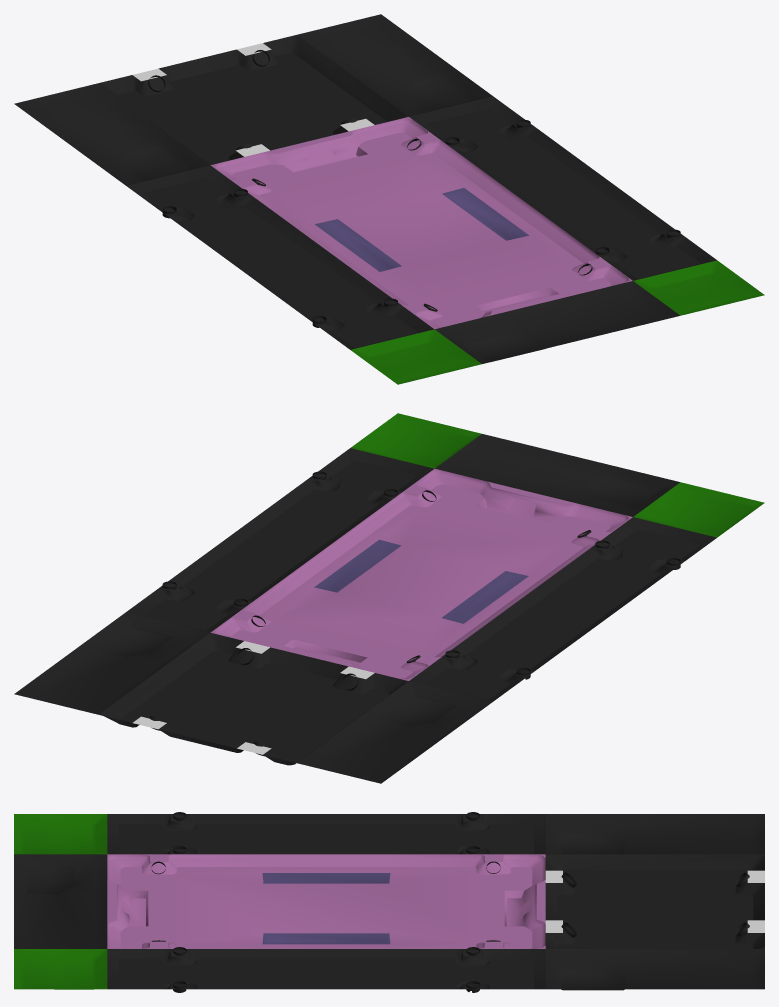
Rendered from Building_B_Staircase_A_Ceiling_A.fbx.
3 renders of one model, top to bottom at view 1: azimuth 30°, elevation 25°; view 2: azimuth 150°, elevation 25°; view 3: azimuth 270°, elevation 25°, orthographic. The views are drawn at different scales.
Visible parts, largest first — view 1: Geom_Building_B_Staircase_A_Ceiling_A_LOD00; view 2: Geom_Building_B_Staircase_A_Ceiling_A_LOD00; view 3: Geom_Building_B_Staircase_A_Ceiling_A_LOD00.
Part boxes in pixels (x1,y1,x2,y2): Geom_Building_B_Staircase_A_Ceiling_A_LOD00: (14, 14, 764, 384); Geom_Building_B_Staircase_A_Ceiling_A_LOD00: (14, 413, 764, 783); Geom_Building_B_Staircase_A_Ceiling_A_LOD00: (14, 812, 764, 992).
Size of what is drawn, in the model's own units: 740 by 31.55 by 1340.
